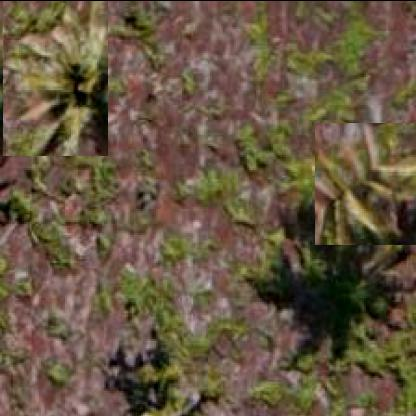coconut tree: (2, 1, 109, 156), (314, 121, 415, 246)
